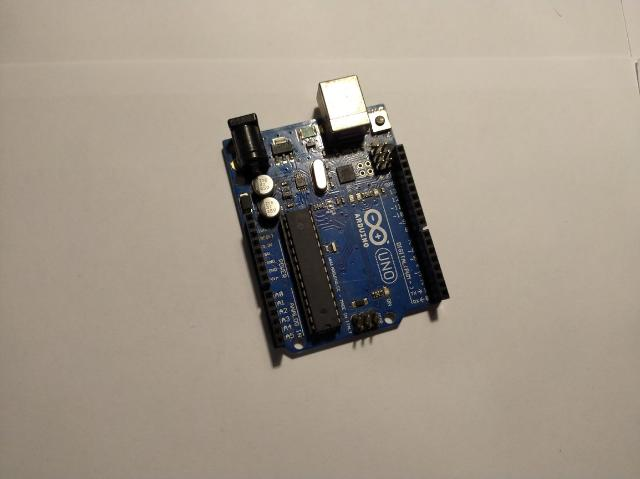arduino: (222, 76, 450, 356)
